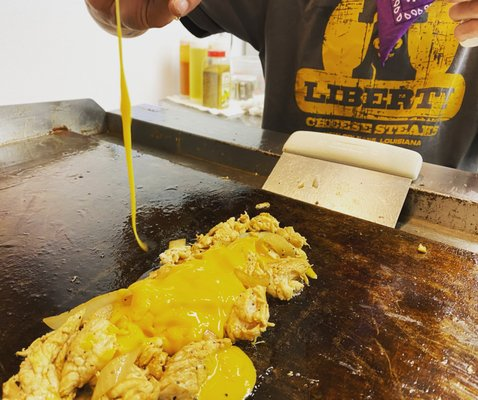pizza: (78, 1, 474, 137)
